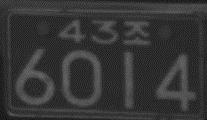0: (59, 48, 103, 108)
1: (111, 50, 146, 109)
3: (90, 19, 119, 45)
4: (156, 52, 197, 111), (56, 17, 86, 43)
6: (13, 47, 55, 106)
조: (122, 20, 151, 45)
